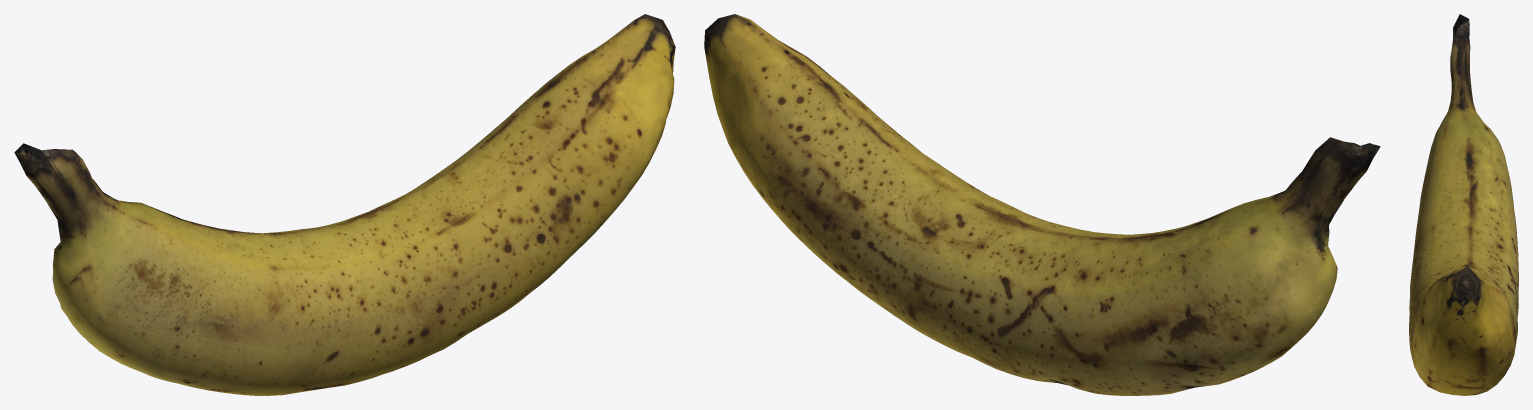
The model's file is banana.glb.
The picture shows the model from 3 angles, left to right: view 1: azimuth 30°, elevation 25°; view 2: azimuth 150°, elevation 25°; view 3: azimuth 270°, elevation 25°; orthographic projection. The views are drawn at different scales.
Parts seen in each view (by area): view 1: Object_2; view 2: Object_2; view 3: Object_2.
Boxes of the visible parts, x1,y1,x2,y2 form: Object_2: [14, 14, 675, 395]; Object_2: [704, 14, 1380, 395]; Object_2: [1409, 14, 1518, 395].
Size of the model in its own units: 1.38 by 0.61 by 0.2603.
1 material, 1 textured.
